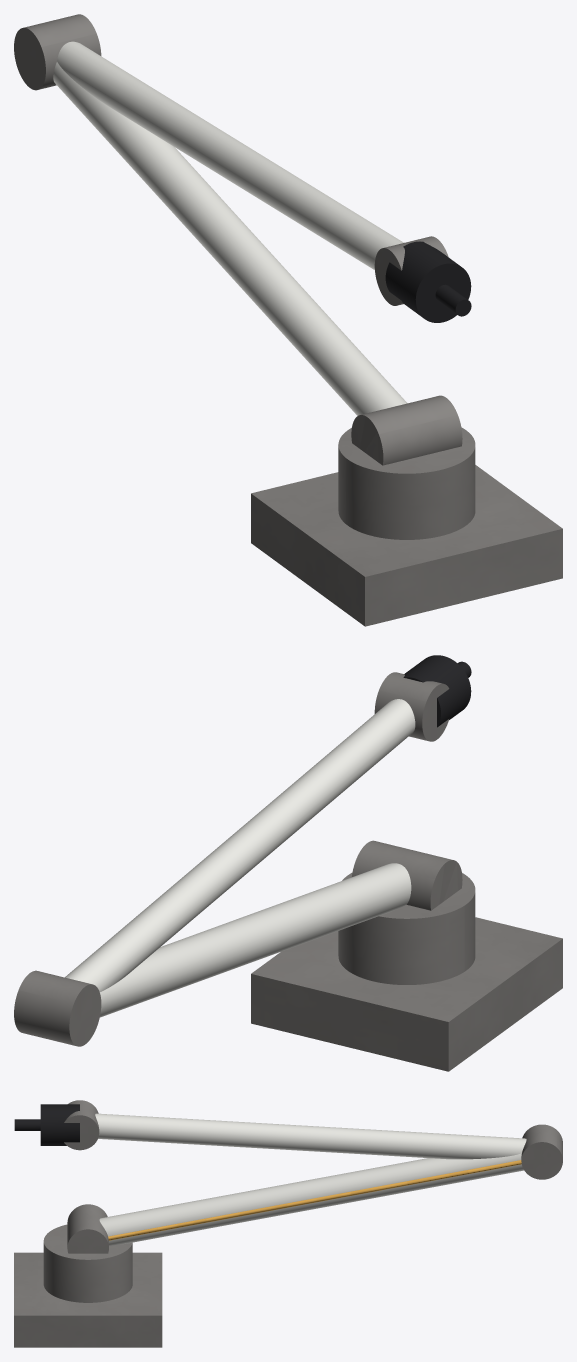
The model's file is rover30_robotic_arm_m.glb.
The picture shows the model from 3 angles, top to bottom: view 1: azimuth 30°, elevation 25°; view 2: azimuth 150°, elevation 25°; view 3: azimuth 270°, elevation 25°; orthographic projection. The views are drawn at different scales.
Parts seen in each view (by area): view 1: base, arm_link1, arm_turret, arm_link2, arm_tool, arm_elbow, arm_wrist; view 2: base, arm_link2, arm_link1, arm_turret, arm_elbow, arm_wrist, arm_tool; view 3: arm_link2, arm_link1, base, arm_turret, arm_cable, arm_elbow, arm_tool, arm_wrist.
Part boxes in pixels (x1,y1,x2,y2): base: (251, 465, 562, 626); arm_link1: (53, 62, 407, 415); arm_turret: (338, 395, 475, 539); arm_link2: (57, 41, 403, 269); arm_tool: (385, 241, 471, 322); arm_elbow: (14, 14, 101, 90); arm_wrist: (374, 236, 448, 305); base: (251, 917, 562, 1071); arm_link2: (65, 699, 415, 991); arm_link1: (100, 863, 411, 1017); arm_turret: (338, 840, 475, 984); arm_elbow: (14, 970, 101, 1046); arm_wrist: (374, 672, 449, 741); arm_tool: (403, 655, 471, 727); arm_link2: (95, 1113, 526, 1159); arm_link1: (99, 1153, 523, 1245); base: (14, 1252, 162, 1347); arm_turret: (43, 1204, 132, 1302); arm_cable: (108, 1160, 521, 1240); arm_elbow: (521, 1124, 562, 1179); arm_tool: (14, 1104, 79, 1145); arm_wrist: (64, 1100, 99, 1150).
Size of the model in its own units: 0.5 by 0.7803 by 1.85.
Materials: 4 (2 with a texture image).
